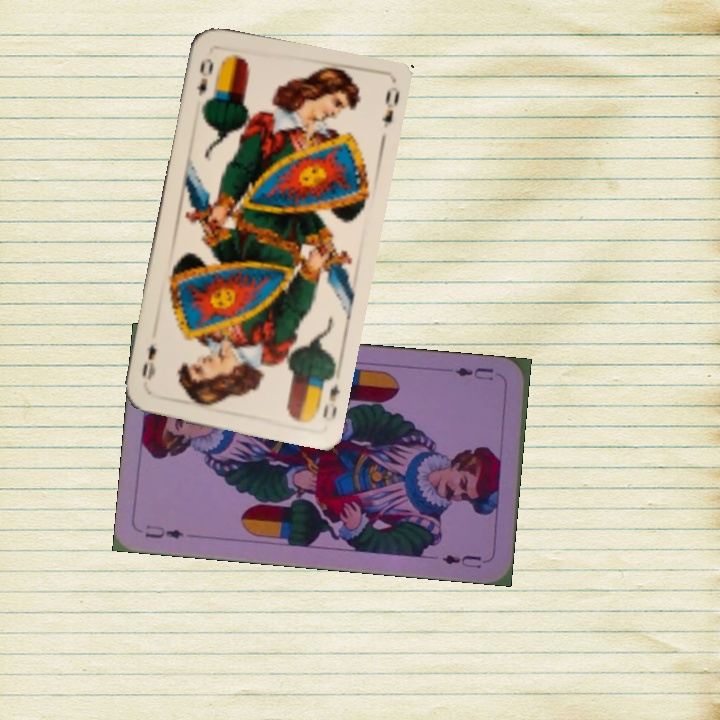EO: (318, 379, 343, 422), (193, 54, 216, 99)
EU: (444, 363, 496, 383), (141, 520, 186, 541)
